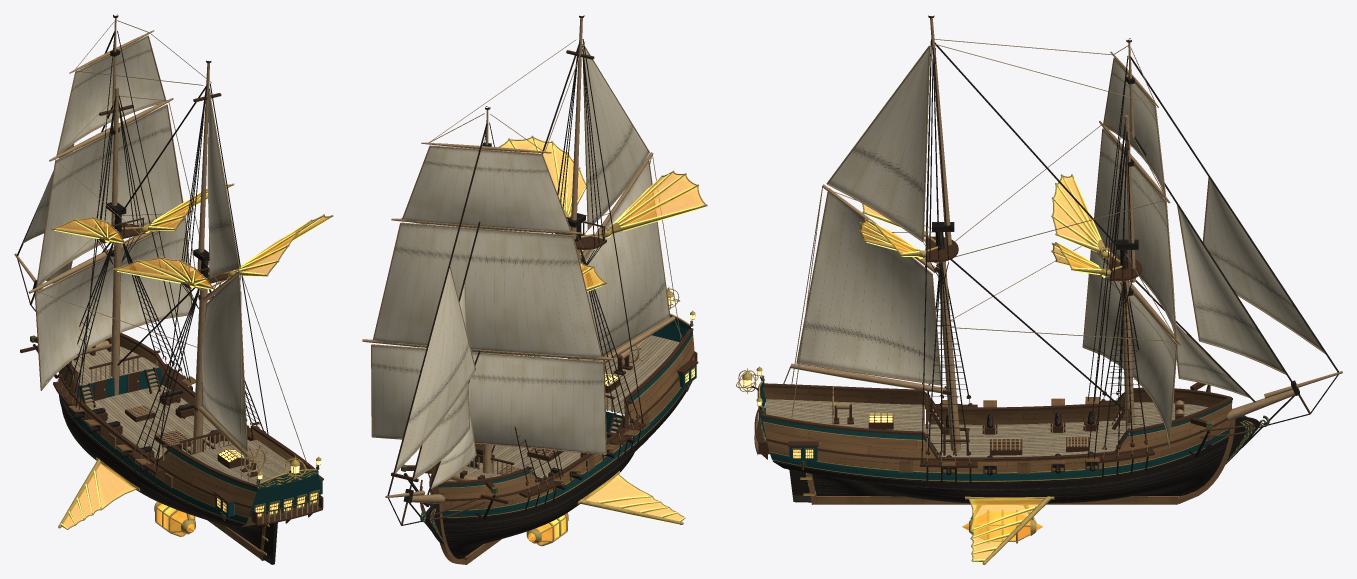
Rendered from sky_galleon.glb.
3 renders of one model, left to right at view 1: azimuth 30°, elevation 25°; view 2: azimuth 150°, elevation 25°; view 3: azimuth 270°, elevation 25°, orthographic. The views are drawn at different scales.
Visible parts, largest first — view 1: Sails, Hull, Rig, WingSails; view 2: Sails, Hull, Rig, WingSails; view 3: Sails, Hull, Rig, WingSails.
Part boxes in pixels (box(x1,y1,x2,y2)): Sails: box(22, 35, 247, 451); Hull: box(20, 333, 323, 564); Rig: box(14, 14, 307, 482); WingSails: box(51, 183, 333, 529); Sails: box(371, 44, 670, 488); Hull: box(391, 287, 698, 564); Rig: box(362, 15, 682, 537); WingSails: box(498, 135, 707, 524); Sails: box(796, 45, 1325, 446); Hull: box(736, 366, 1269, 543); Rig: box(782, 15, 1342, 465); WingSails: box(858, 174, 1122, 564).
Size of what is drawn, in the model's own units: 17.26 by 32.56 by 33.94.
6 materials, 6 textured.
